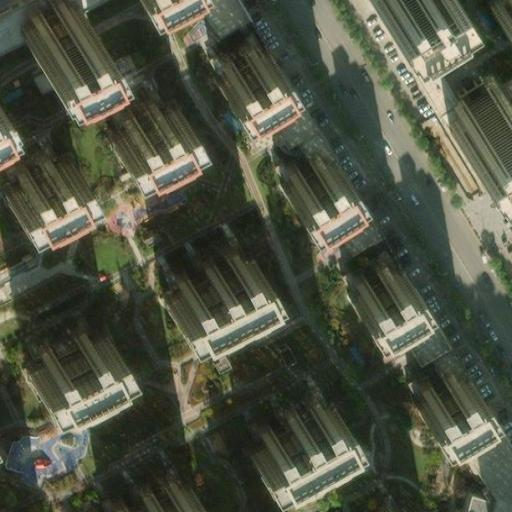building: (148, 244, 249, 317), (231, 390, 329, 463), (454, 424, 512, 512), (463, 112, 512, 216), (15, 324, 100, 382), (439, 67, 512, 132), (94, 97, 173, 153), (379, 289, 439, 361), (94, 468, 181, 512), (266, 149, 332, 204), (199, 40, 266, 94), (0, 151, 67, 205), (332, 255, 398, 309), (399, 364, 465, 418)
